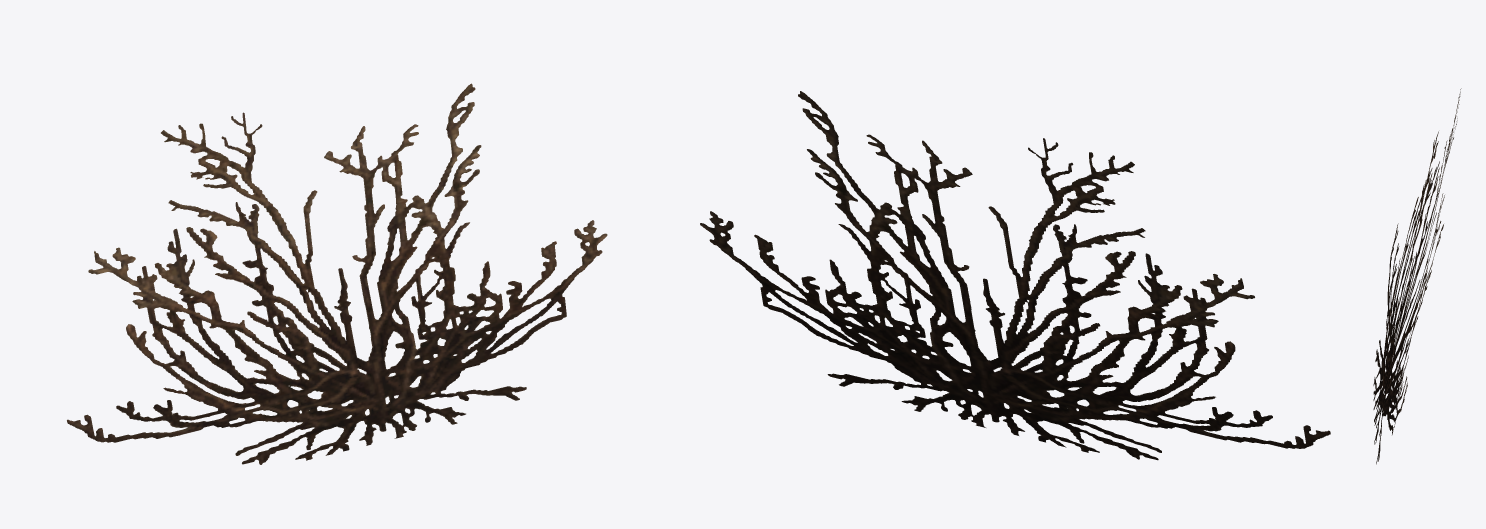
Rendered from yw_yanmenguan_kucao01.FBX.
3 renders of one model, left to right at view 1: azimuth 30°, elevation 25°; view 2: azimuth 150°, elevation 25°; view 3: azimuth 270°, elevation 25°, orthographic. The views are drawn at different scales.
Visible parts, largest first — view 1: yw_yanmenguan_kucao01; view 2: yw_yanmenguan_kucao01; view 3: yw_yanmenguan_kucao01.
Boxes of the visible parts, box(x1,y1,x2,y2) form: yw_yanmenguan_kucao01: box(67, 83, 607, 464); yw_yanmenguan_kucao01: box(700, 91, 1330, 460); yw_yanmenguan_kucao01: box(1373, 88, 1461, 464).
Size of the model in its own units: 144 by 81.79 by 26.46.
